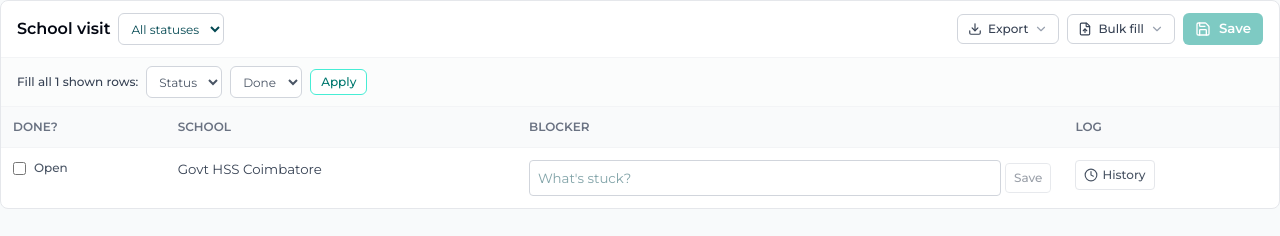
Test case: grid toolbar — bulk fill menu › offers records and history as separate files in one picked format
This screenshot has width=1280, height=236.
Click the button "Export" at (1008, 29), box 957,14 -> 1059,44
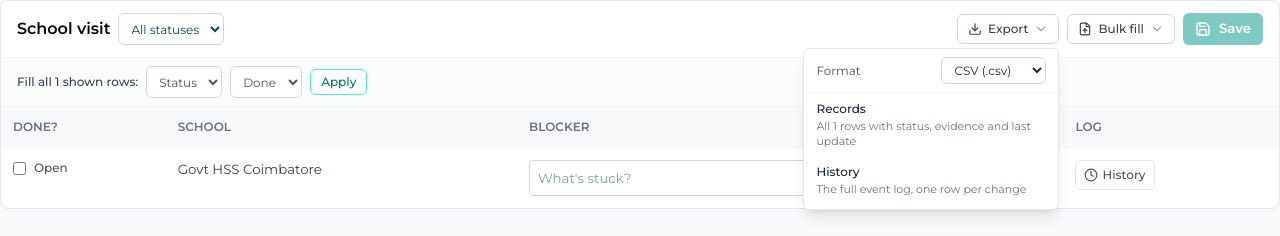
Now the dropdown labelled "Format" shows "CSV (.csv)", box 941,57 -> 1046,84
